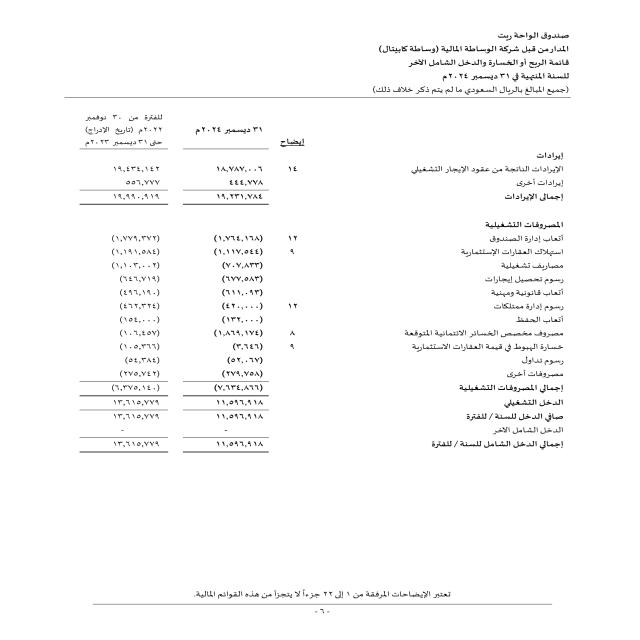financial_sheets: (399, 58, 571, 69)
table: (42, 100, 331, 491)
